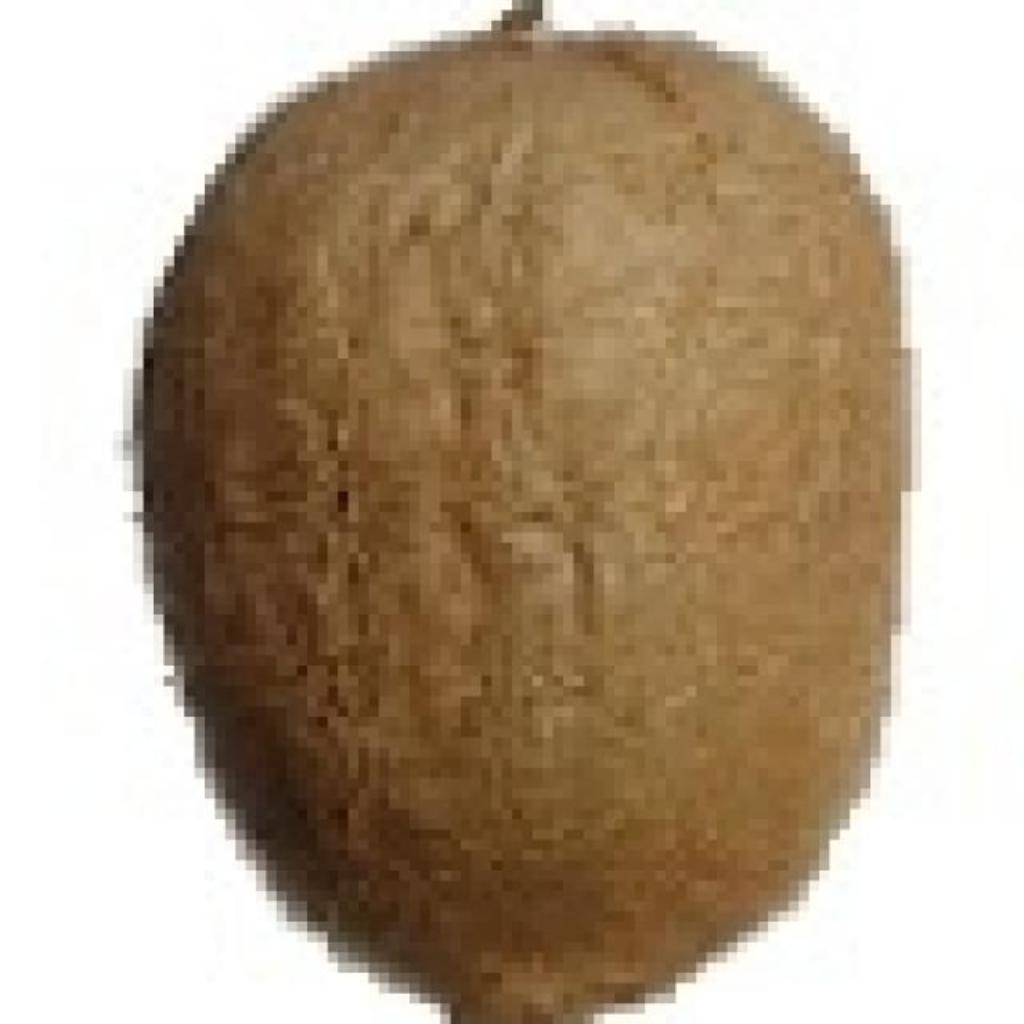kiwi: (164, 20, 911, 1004)
